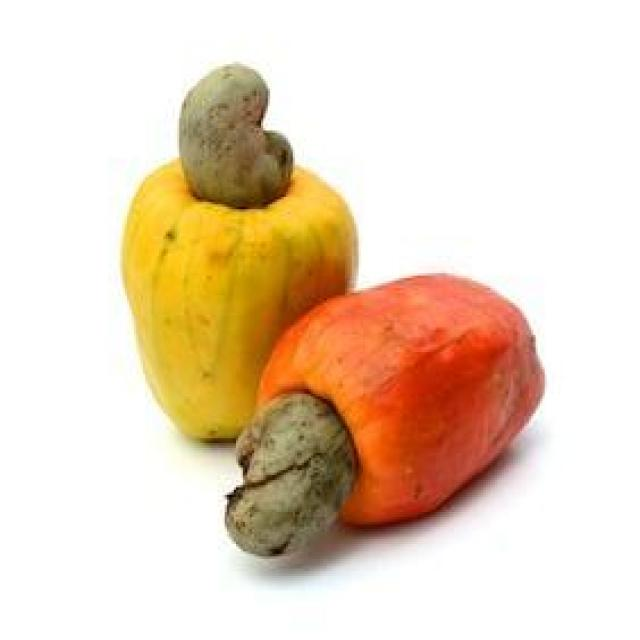Cashew: (175, 53, 307, 206), (232, 402, 346, 569)
